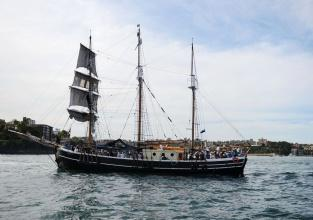fanchuan: (44, 27, 251, 170)
